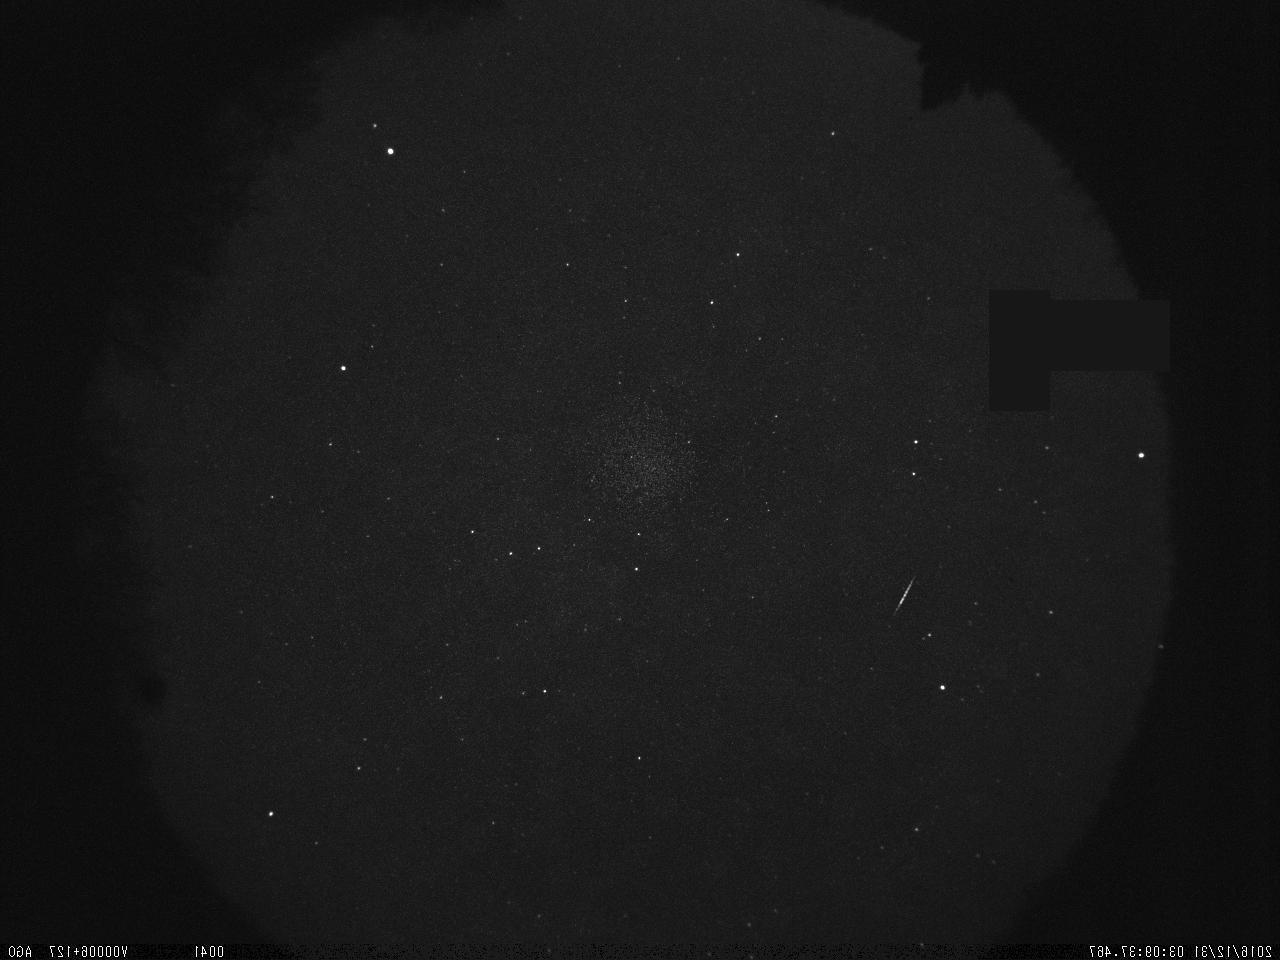meteor: (880, 572, 935, 631)
